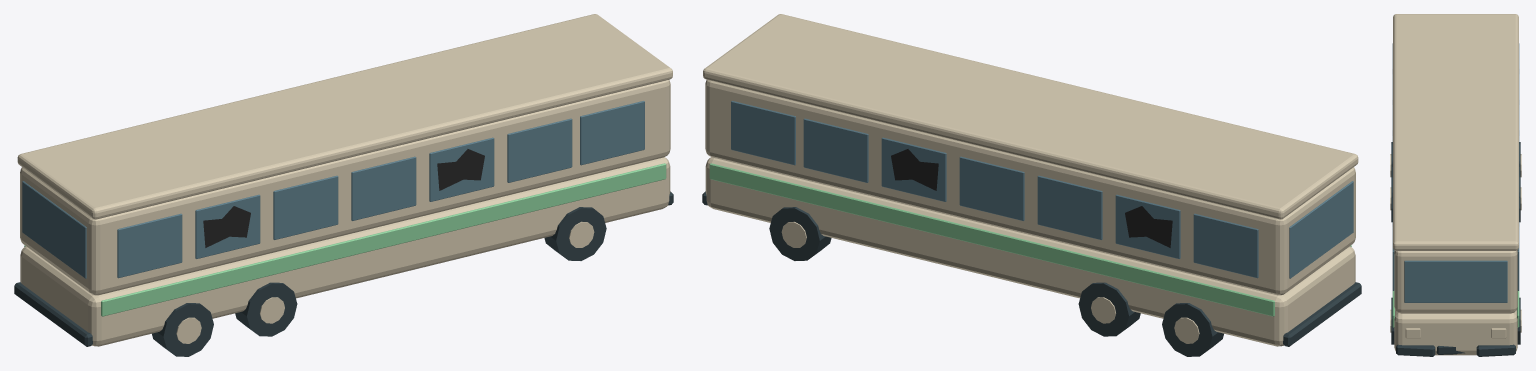
File: bus_wreck.glb
3 views of the same model, side by side, from view 1: azimuth 30°, elevation 25°; view 2: azimuth 150°, elevation 25°; view 3: azimuth 270°, elevation 25° (orthographic). The views are drawn at different scales.
Parts seen in each view (by area): view 1: Occlude_Upper_Mesh, Keep_Mesh; view 2: Occlude_Upper_Mesh, Keep_Mesh; view 3: Occlude_Upper_Mesh, Keep_Mesh.
Boxes of the visible parts, x1,y1,x2,y2 form: Occlude_Upper_Mesh: (17,14,672,295); Keep_Mesh: (14,157,673,356); Occlude_Upper_Mesh: (703,14,1358,295); Keep_Mesh: (702,157,1361,356); Occlude_Upper_Mesh: (1392,14,1519,313); Keep_Mesh: (1390,142,1521,356).
Bounding box in the file's own units: 11.02 × 3 × 2.6.
